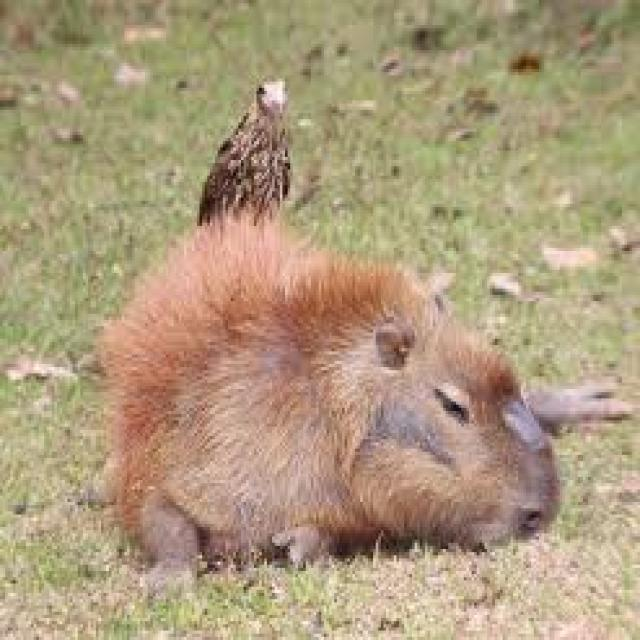capy: (100, 206, 561, 586)
